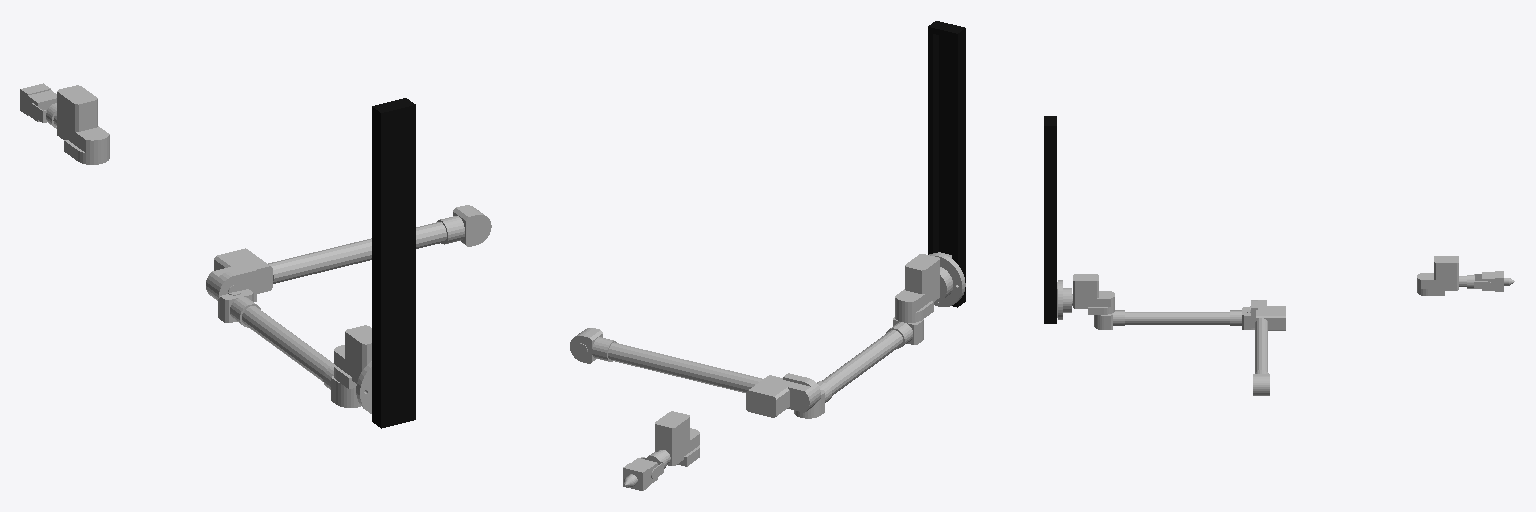
robot.urdf — scara_setup:
<robot
  name="scara_setup">
  
  <gazebo>
		<plugin name="gazebo_ros_control" filename="libgazebo_ros_control.so">
			<robotNamespace>/scara_setup</robotNamespace>
			<robotSimType>gazebo_ros_control/DefaultRobotHWSim</robotSimType>
		</plugin>
	</gazebo>
  
  <link name="world"/>
  
  <link name="mount_point"/>
  <link name="effector_tip" />
  
  <link
    name="frame">
    <inertial>
      <origin
        xyz="-1.3962E-17 -0.0032126 0.261"
        rpy="0 0 0" />
      <mass
        value="1.493" />
      <inertia
        ixx="0.035804"
        ixy="5.4774E-19"
        ixz="-2.3172E-18"
        iyy="0.036324"
        iyz="-3.2402E-18"
        izz="0.0007275" />
    </inertial>
    <visual>
      <origin
        xyz="0 0 0"
        rpy="0 0 0" />
      <geometry>
        <mesh
          filename="package://scara_setup_description/meshes/frame.STL" />
      </geometry>
      <material
        name="">
        <color
          rgba="0.10196 0.10196 0.10196 1" />
      </material>
    </visual>
    <collision>
      <origin
        xyz="0 0 0"
        rpy="0 0 0" />
      <geometry>
        <mesh
          filename="package://scara_setup_description/meshes/frame.STL" />
      </geometry>
    </collision>
  </link>
  <link
    name="cart">
    <inertial>
      <origin
        xyz="2.8028E-18 0.049288 0.0065656"
        rpy="0 0 0" />
      <mass
        value="1.2925" />
      <inertia
        ixx="0.0030664"
        ixy="-1.3057E-19"
        ixz="5.1704E-19"
        iyy="0.001007"
        iyz="7.8657E-05"
        izz="0.0026482" />
    </inertial>
    <visual>
      <origin
        xyz="0 0 0"
        rpy="0 0 0" />
      <geometry>
        <mesh
          filename="package://scara_setup_description/meshes/cart.STL" />
      </geometry>
      <material
        name="">
        <color
          rgba="0.75294 0.75294 0.75294 1" />
      </material>
    </visual>
    <collision>
      <origin
        xyz="0 0 0"
        rpy="0 0 0" />
      <geometry>
        <mesh
          filename="package://scara_setup_description/meshes/cart.STL" />
      </geometry>
    </collision>
  </link>
  <joint
    name="linear"
    type="prismatic">
    <origin
      xyz="0 0.0159 0.049"
      rpy="1.3878E-15 -1.3878E-15 -7.9703E-17" />
    <parent
      link="frame" />
    <child
      link="cart" />
    <axis
      xyz="0 0 1" />
    <limit
      lower="0"
      upper="0.424"
      effort="501"
      velocity="0.0063" />
  </joint>
  <link
    name="arm">
    <inertial>
      <origin
        xyz="-4.8333E-17 0.175 -0.020313"
        rpy="0 0 0" />
      <mass
        value="0.81408" />
      <inertia
        ixx="0.018293"
        ixy="-2.8864E-18"
        ixz="-2.2791E-20"
        iyy="0.00019071"
        iyz="1.1001E-19"
        izz="0.018314" />
    </inertial>
    <visual>
      <origin
        xyz="0 0 0"
        rpy="0 0 0" />
      <geometry>
        <mesh
          filename="package://scara_setup_description/meshes/arm.STL" />
      </geometry>
      <material
        name="">
        <color
          rgba="0.75294 0.75294 0.75294 1" />
      </material>
    </visual>
    <collision>
      <origin
        xyz="0 0 0"
        rpy="0 0 0" />
      <geometry>
        <mesh
          filename="package://scara_setup_description/meshes/arm.STL" />
      </geometry>
    </collision>
  </link>
  <joint
    name="shoulder"
    type="revolute">
    <origin
      xyz="0 0.11311 -0.0285"
      rpy="-1.3878E-15 1.3878E-15 7.9703E-17" />
    <parent
      link="cart" />
    <child
      link="arm" />
    <axis
      xyz="0 0 1" />
    <limit
      lower="-1.57"
      upper="1.57"
      effort="6"
      velocity="3.295" />
  </joint>
  <link
    name="forearm">
    <inertial>
      <origin
        xyz="1.6424E-16 0.15861 0.035158"
        rpy="0 0 0" />
      <mass
        value="1.2555" />
      <inertia
        ixx="0.036347"
        ixy="9.1469E-18"
        ixz="8.7884E-19"
        iyy="0.00068775"
        iyz="-0.0009169"
        izz="0.036003" />
    </inertial>
    <visual>
      <origin
        xyz="0 0 0"
        rpy="0 0 0" />
      <geometry>
        <mesh
          filename="package://scara_setup_description/meshes/forearm.STL" />
      </geometry>
      <material
        name="">
        <color
          rgba="0.75294 0.75294 0.75294 1" />
      </material>
    </visual>
    <collision>
      <origin
        xyz="0 0 0"
        rpy="0 0 0" />
      <geometry>
        <mesh
          filename="package://scara_setup_description/meshes/forearm.STL" />
      </geometry>
    </collision>
  </link>
  <joint
    name="elbow"
    type="revolute">
    <origin
      xyz="0 0.35 0"
      rpy="6.9389E-16 -2.0817E-15 -1.4444E-30" />
    <parent
      link="arm" />
    <child
      link="forearm" />
    <axis
      xyz="0 0 1" />
    <limit
      lower="-1.57"
      upper="1.57"
      effort="6"
      velocity="3.295" />
  </joint>
  <link
    name="hand">
    <inertial>
      <origin
        xyz="5.4351E-17 0.036943 0.039218"
        rpy="0 0 0" />
      <mass
        value="0.79174" />
      <inertia
        ixx="0.0012079"
        ixy="2.1009E-19"
        ixz="7.5749E-19"
        iyy="0.0005451"
        iyz="0.00014942"
        izz="0.00089052" />
    </inertial>
    <visual>
      <origin
        xyz="0 0 0"
        rpy="0 0 0" />
      <geometry>
        <mesh
          filename="package://scara_setup_description/meshes/hand.STL" />
      </geometry>
      <material
        name="">
        <color
          rgba="0.75294 0.75294 0.75294 1" />
      </material>
    </visual>
    <collision>
      <origin
        xyz="0 0 0"
        rpy="0 0 0" />
      <geometry>
        <mesh
          filename="package://scara_setup_description/meshes/hand.STL" />
      </geometry>
    </collision>
  </link>
  <joint
    name="wrist"
    type="revolute">
    <origin
      xyz="0 0.42501 0.0485"
      rpy="-6.9389E-16 2.0817E-15 0" />
    <parent
      link="forearm" />
    <child
      link="hand" />
    <axis
      xyz="0 0 1" />
    <limit
      lower="-1.57"
      upper="1.57"
      effort="6"
      velocity="3.295" />
  </joint>
  <link
    name="finger">
    <inertial>
      <origin
        xyz="-1.0164E-17 0.013252 -9.7145E-17"
        rpy="0 0 0" />
      <mass
        value="0.18562" />
      <inertia
        ixx="6.2332E-05"
        ixy="-2.6264E-20"
        ixz="-2.6844E-20"
        iyy="4.051E-05"
        iyz="-3.3964E-21"
        izz="7.0561E-05" />
    </inertial>
    <visual>
      <origin
        xyz="0 0 0"
        rpy="0 0 0" />
      <geometry>
        <mesh
          filename="package://scara_setup_description/meshes/finger.STL" />
      </geometry>
      <material
        name="">
        <color
          rgba="0.75294 0.75294 0.75294 1" />
      </material>
    </visual>
    <collision>
      <origin
        xyz="0 0 0"
        rpy="0 0 0" />
      <geometry>
        <mesh
          filename="package://scara_setup_description/meshes/finger.STL" />
      </geometry>
    </collision>
  </link>
  <joint
    name="fingerjoint"
    type="revolute">
    <origin
      xyz="0 0.14311 0.0285"
      rpy="0 -1.3878E-15 0" />
    <parent
      link="hand" />
    <child
      link="finger" />
    <axis
      xyz="-1 0 0" />
    <limit
      lower="-2.57"
      upper="2.57"
      effort="1.5"
      velocity="370.7" />
  </joint>
  
  <joint name="dummy" type="fixed">
  	<origin xyz="0 0 0" rpy="0 0 0"/>
  	<parent link="mount_point"/>
  	<child link="frame"/>
  </joint>
  
  <joint name="tip_joint" type="fixed">
  	<origin xyz="0 0.0665 0" rpy="0 0 0"/>
  	<parent link="finger"/>
  	<child link="effector_tip"/>
  </joint>
  
	<transmission name="transmissionlinear">
		<type>transmission_interface/SimpleTransmission</type>
		<joint name="linear">
			<hardwareInterface>EffortJointInterface</hardwareInterface>
		</joint>
		<actuator name="motorlinear">
			<hardwareInterface>EffortJointInterface</hardwareInterface>
			<mechanicalReduction>167</mechanicalReduction>
		</actuator>
	</transmission>
	
	<transmission name="transmissionshoulder">
		<type>transmission_interface/SimpleTransmission</type>
		<joint name="shoulder">
			<hardwareInterface>EffortJointInterface</hardwareInterface>
		</joint>
		<actuator name="motorshoulder">
			<hardwareInterface>EffortJointInterface</hardwareInterface>
			<mechanicalReduction>2</mechanicalReduction>
		</actuator>
	</transmission>
	
	<transmission name="transmissionelbow">
		<type>transmission_interface/SimpleTransmission</type>
		<joint name="elbow">
			<hardwareInterface>EffortJointInterface</hardwareInterface>
		</joint>
		<actuator name="motorelbow">
			<hardwareInterface>EffortJointInterface</hardwareInterface>
			<mechanicalReduction>2</mechanicalReduction>
		</actuator>
	</transmission>
	
	<transmission name="transmissionwrist">
		<type>transmission_interface/SimpleTransmission</type>
		<joint name="wrist">
			<hardwareInterface>EffortJointInterface</hardwareInterface>
		</joint>
		<actuator name="motorwrist">
			<hardwareInterface>EffortJointInterface</hardwareInterface>
			<mechanicalReduction>2</mechanicalReduction>
		</actuator>
	</transmission>
	
	<transmission name="transmissionfinger">
		<type>transmission_interface/SimpleTransmission</type>
		<joint name="fingerjoint">
			<hardwareInterface>EffortJointInterface</hardwareInterface>
		</joint>
		<actuator name="motorfinger">
			<hardwareInterface>EffortJointInterface</hardwareInterface>
			<mechanicalReduction>1</mechanicalReduction>
		</actuator>
	</transmission>
	
	<joint name="fixed" type="fixed">
		<origin xyz="0 0 0.3" rpy="0 0 0"/>
		<parent link="world"/>
		<child link="mount_point"/>
	</joint>
</robot>

--- Render facts (derived) ---
Views: 3 orthographic renders of the robot side by side, from view 1: azimuth 30°, elevation 25°; view 2: azimuth 150°, elevation 25°; view 3: azimuth 270°, elevation 25°.
Model scara_setup with 9 links and 8 joints (4 revolute, 1 prismatic, 3 fixed), rooted at world, posed every joint at zero.
Links seen in each view (by area): view 1: frame, forearm, arm, hand, cart, finger; view 2: frame, forearm, cart, arm, hand, finger; view 3: frame, arm, forearm, cart, hand.
Link boxes in pixels (x1,y1,x2,y2): frame: [372, 98, 415, 428]; forearm: [206, 205, 491, 301]; arm: [218, 289, 360, 407]; hand: [29, 85, 109, 164]; cart: [334, 325, 371, 413]; finger: [20, 83, 56, 121]; frame: [928, 21, 965, 307]; forearm: [570, 328, 820, 417]; cart: [895, 252, 965, 322]; arm: [794, 317, 923, 418]; hand: [641, 411, 699, 479]; finger: [623, 458, 657, 490]; frame: [1044, 116, 1056, 323]; arm: [1094, 307, 1254, 329]; forearm: [1250, 300, 1285, 395]; cart: [1057, 274, 1114, 319]; hand: [1417, 256, 1491, 295].
Size in the robot's own frame: 0.4977 by 1.13 by 0.5415 metres.
Meshes: 6 distinct files referenced, 6 mesh visuals loaded (6 binary STL).